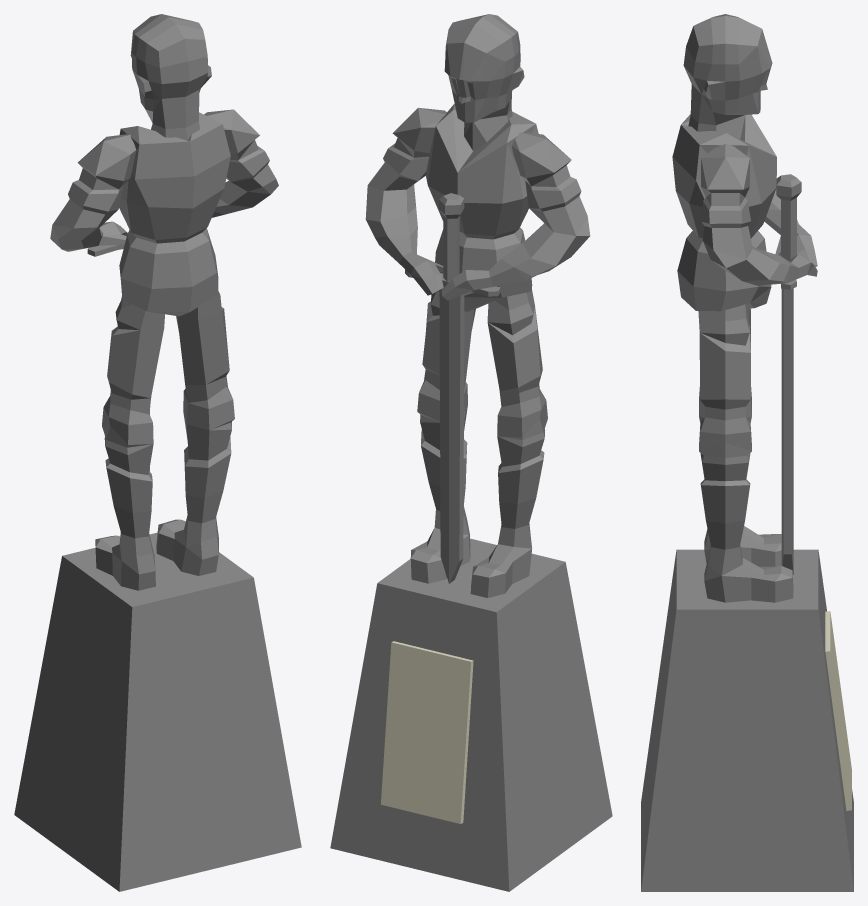
Rendered from Statue.glb.
3 views of the same model, side by side, from view 1: azimuth 30°, elevation 25°; view 2: azimuth 150°, elevation 25°; view 3: azimuth 270°, elevation 25° (orthographic). The views are drawn at different scales.
Parts seen in each view (by area): view 1: Statue; view 2: Statue; view 3: Statue.
Boxes of the visible parts, x1,y1,x2,y2 form: Statue: (14, 14, 301, 891); Statue: (330, 14, 612, 891); Statue: (641, 14, 853, 891).
Bounding box in the file's own units: 0.8928 × 3.17 × 0.7367.
Materials: 1 (1 with a texture image).
